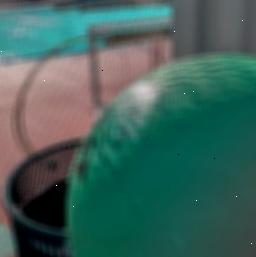algae: (68, 49, 256, 257)
